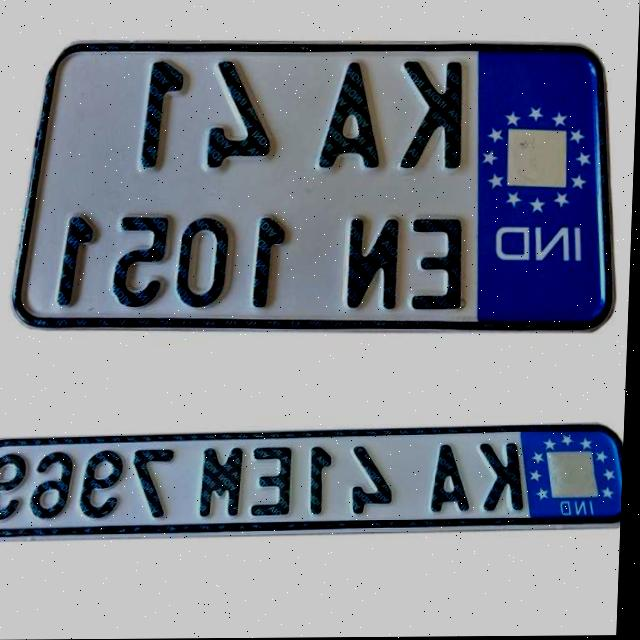plate: (8, 38, 628, 351), (0, 419, 628, 552)
